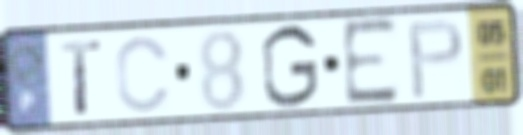8: (194, 25, 250, 115)
C: (113, 33, 174, 116)
E: (338, 14, 402, 110)
G: (258, 22, 321, 111)
P: (404, 16, 467, 102)
T: (57, 37, 105, 118)
